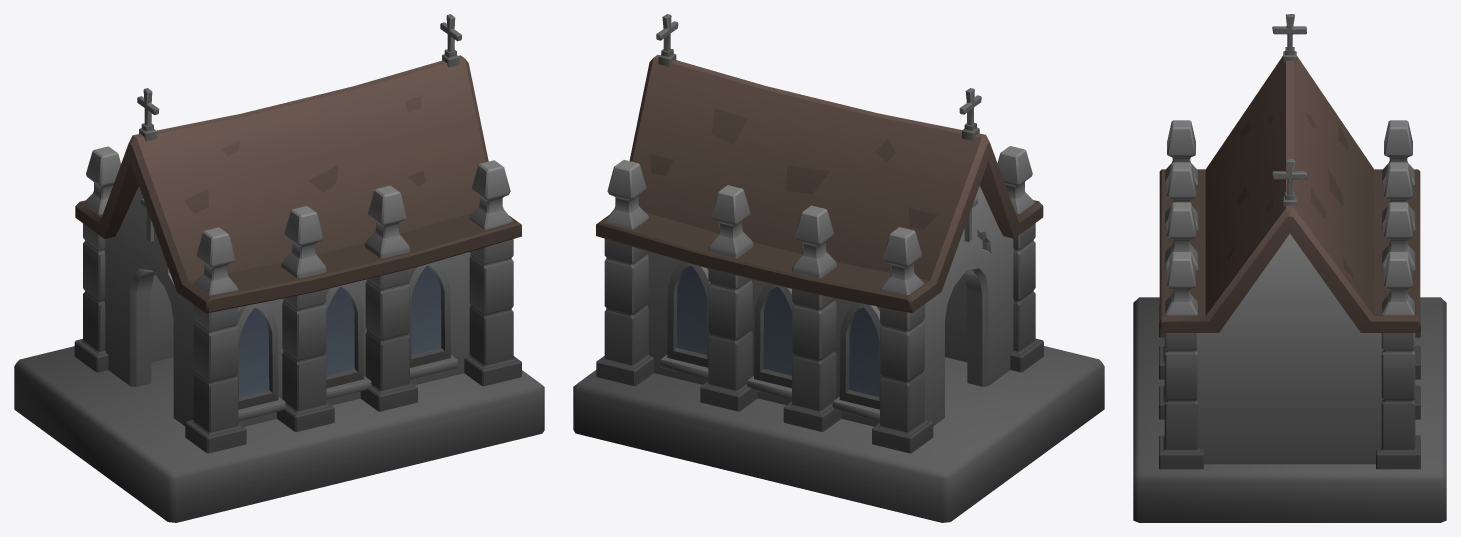
Rendered from Catedra.glb.
3 renders of one model, left to right at view 1: azimuth 30°, elevation 25°; view 2: azimuth 150°, elevation 25°; view 3: azimuth 270°, elevation 25°, orthographic. The views are drawn at different scales.
Parts seen in each view (by area): view 1: Catedra; view 2: Catedra; view 3: Catedra.
Part boxes in pixels (left/top/right/bottom): Catedra: left=14, top=14, right=544, bottom=522; Catedra: left=573, top=14, right=1104, bottom=522; Catedra: left=1133, top=14, right=1446, bottom=522.
Bounding box in the file's own units: 4.29 × 3.94 × 3.15.
Materials: 1 (1 with a texture image).
